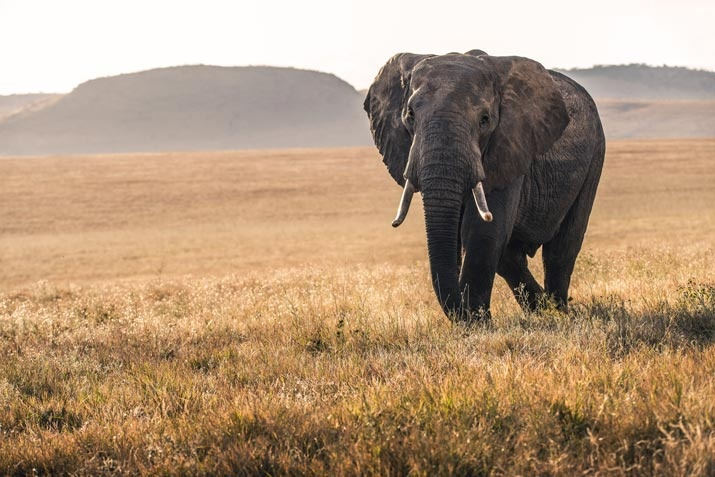elephant: (359, 45, 606, 324)
